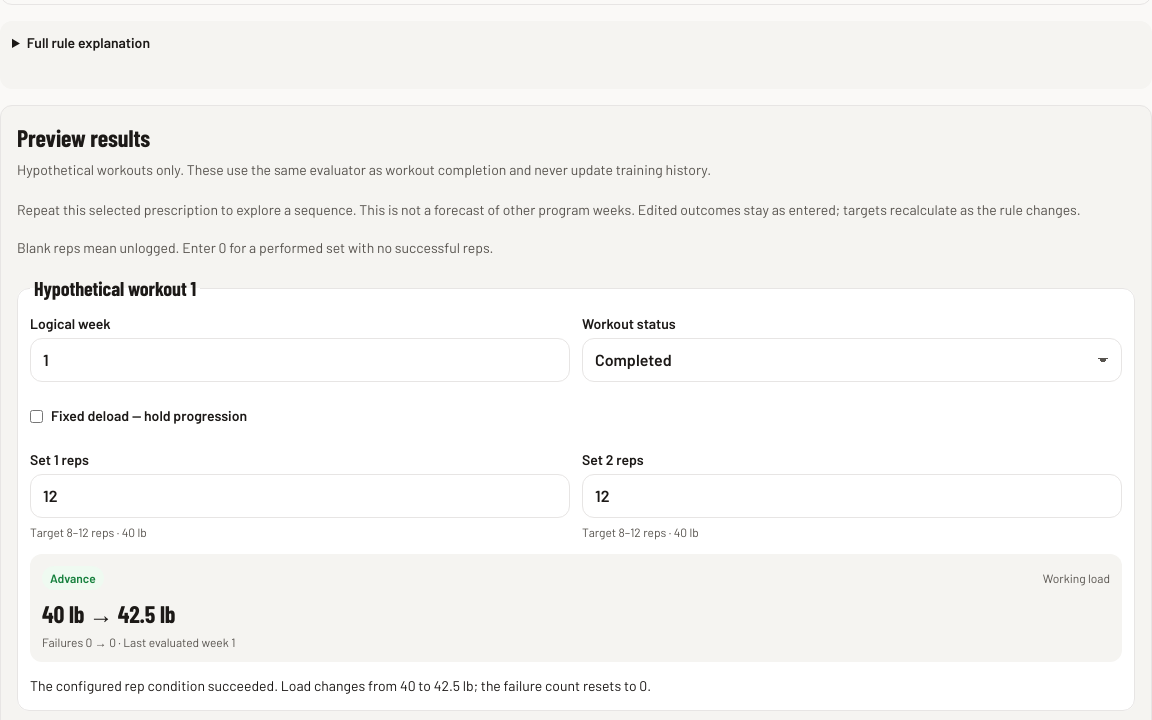
progression authoring › identifies an invalid hypothetical workout and recovers without discarding the rule
The width and height of the screenshot is (1152, 720).
(page scrolled)
Replace the text in the number field named "Logical week (hypothetical)" with "0": (300,360) 30,338 -> 570,382
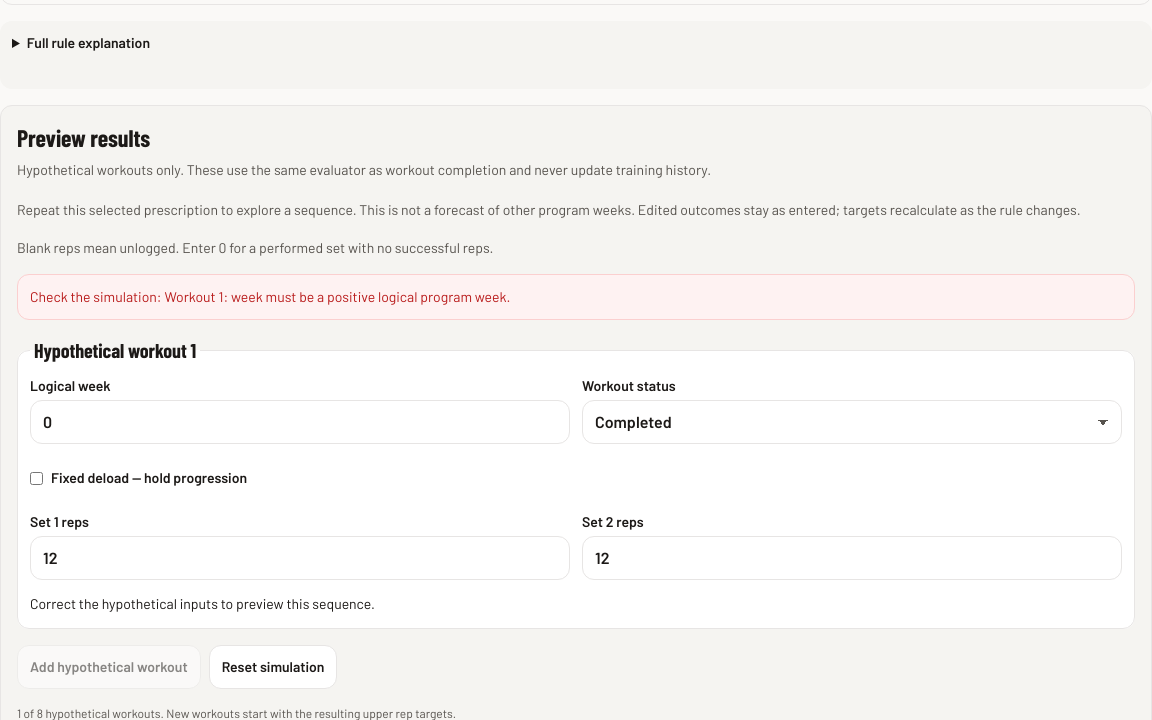
Result: the message "Check the simulation: Workout 1: week must be a positive logical program week." is shown at 17,274 -> 1135,320
Result: the button "Add hypothetical workout" is disabled at 17,645 -> 201,689
Replace the text in the number field named "Logical week (hypothetical)" with "1": (300,422) 30,400 -> 570,444
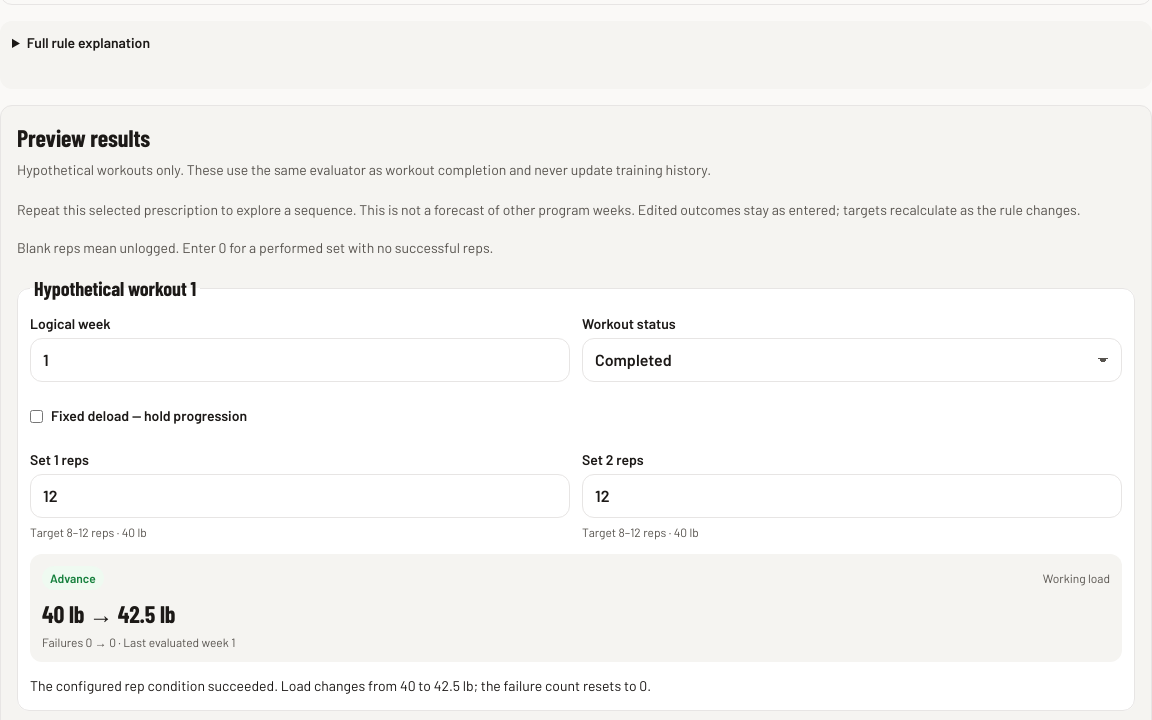
Result: the message named "Progression preview result" shows "42.5" at 30,677 -> 651,694
